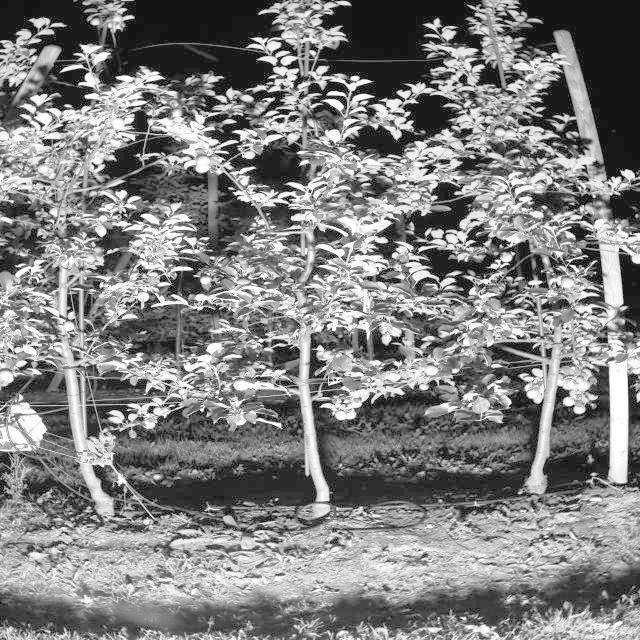Tree: (196, 0, 375, 512), (0, 7, 146, 518), (445, 95, 588, 495)
